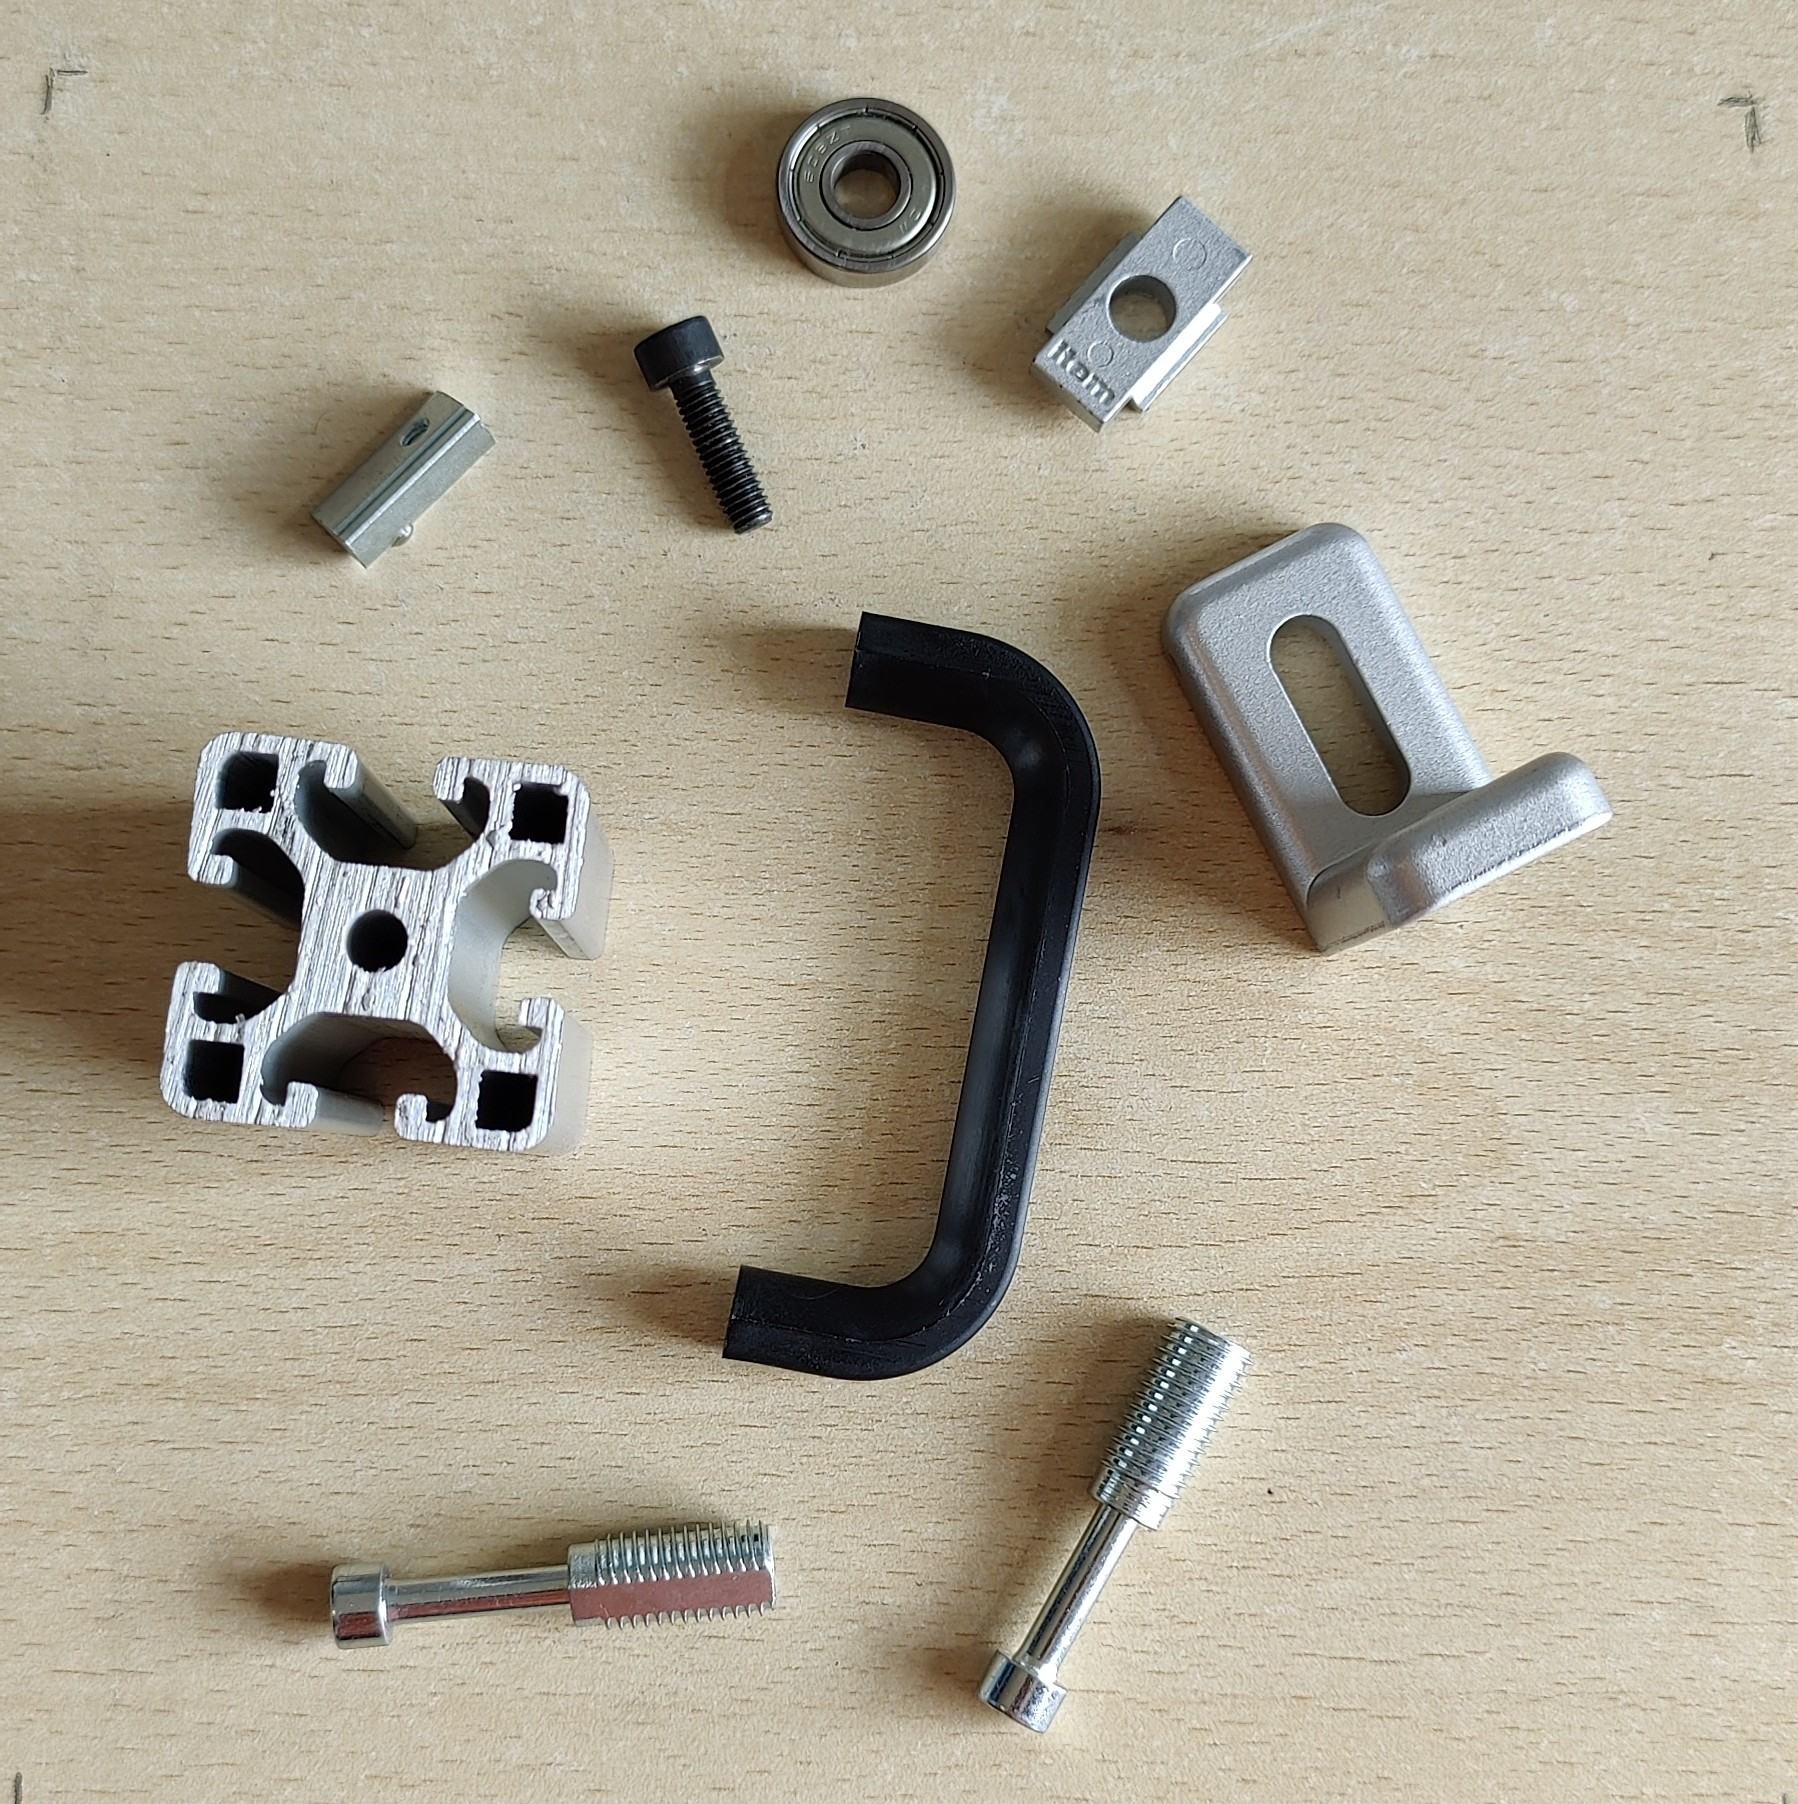Aluminium Extension: (155, 731, 617, 1157)
Ball Bearing: (772, 95, 958, 290)
Multiwinkel: (1156, 522, 1614, 960)
Pull Handle: (720, 607, 1102, 1384)
Shoulder Socket Head Cap Screw: (975, 1312, 1255, 1737), (329, 1514, 780, 1653)
Socket Head Cap Screw: (627, 311, 776, 537)
T Nut Square: (1026, 189, 1255, 435)
T Spring Nut: (310, 387, 499, 571)
